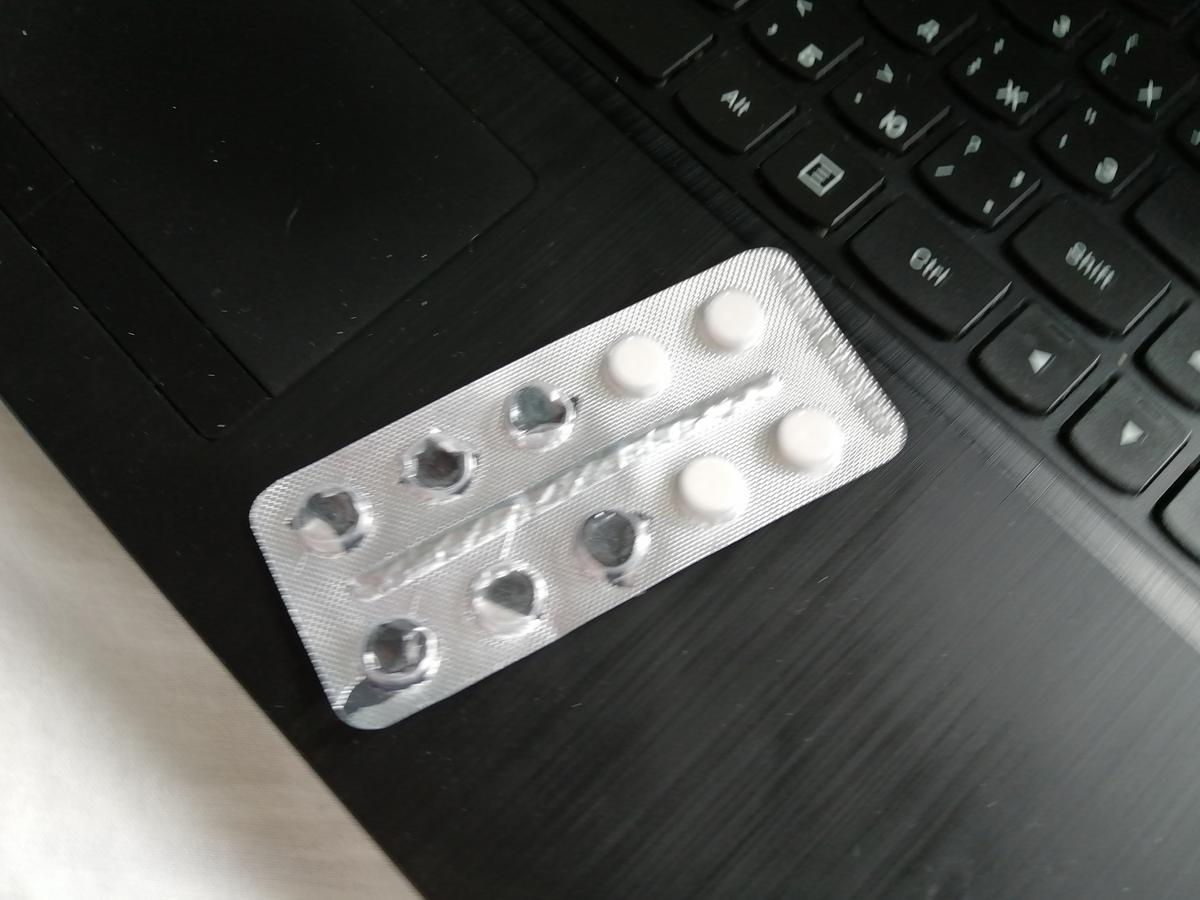tablet: (598, 324, 680, 403), (672, 448, 756, 523), (771, 408, 848, 473), (696, 286, 769, 354)
